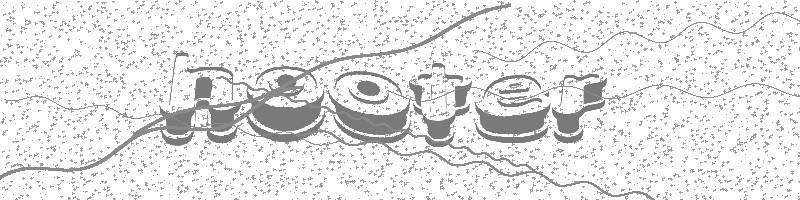e: (476, 75, 552, 143)
h: (161, 52, 241, 146)
o: (328, 70, 412, 142), (247, 66, 325, 142)
r: (553, 74, 607, 142)
t: (409, 63, 472, 147)
